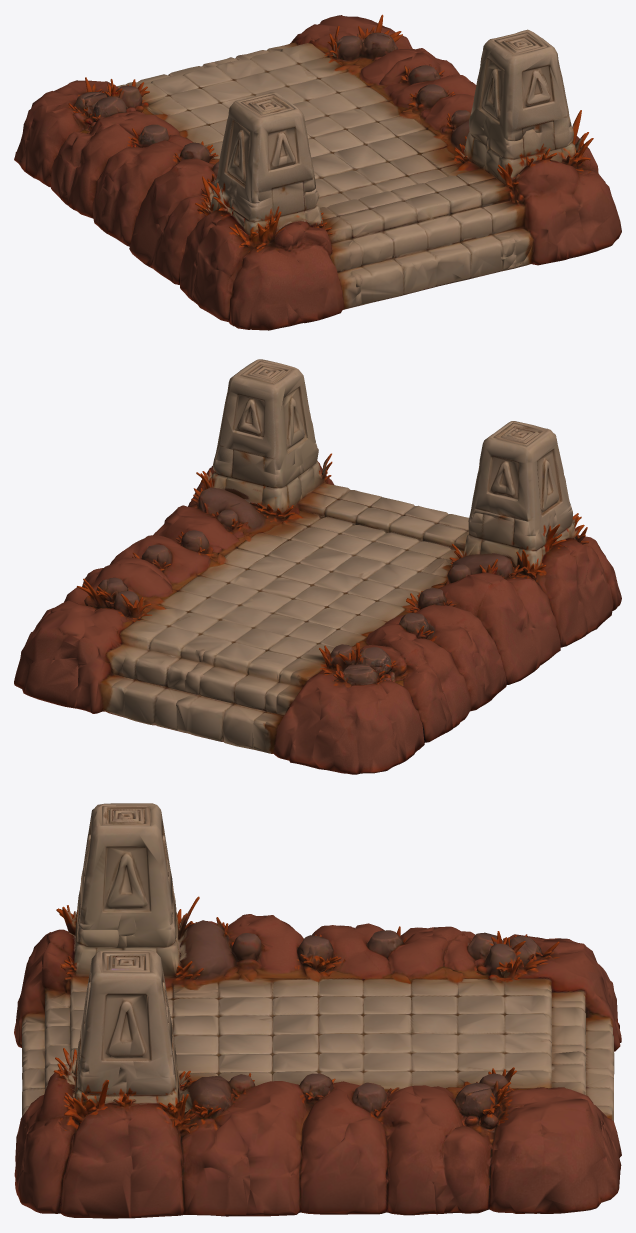
The model's file is puente_de_piedra_volcanico.glb.
3 views of the same model, one above another, from view 1: azimuth 30°, elevation 25°; view 2: azimuth 150°, elevation 25°; view 3: azimuth 270°, elevation 25° (orthographic). The views are drawn at different scales.
Parts seen in each view (by area): view 1: puente_de_piedra_volcanico; view 2: puente_de_piedra_volcanico; view 3: puente_de_piedra_volcanico.
Part boxes in pixels (x1,y1,x2,y2): puente_de_piedra_volcanico: (14, 14, 621, 330); puente_de_piedra_volcanico: (14, 359, 621, 774); puente_de_piedra_volcanico: (14, 803, 621, 1218).
Size of what is drawn, in the model's own units: 5.37 by 2.36 by 6.
1 material, 1 textured.
